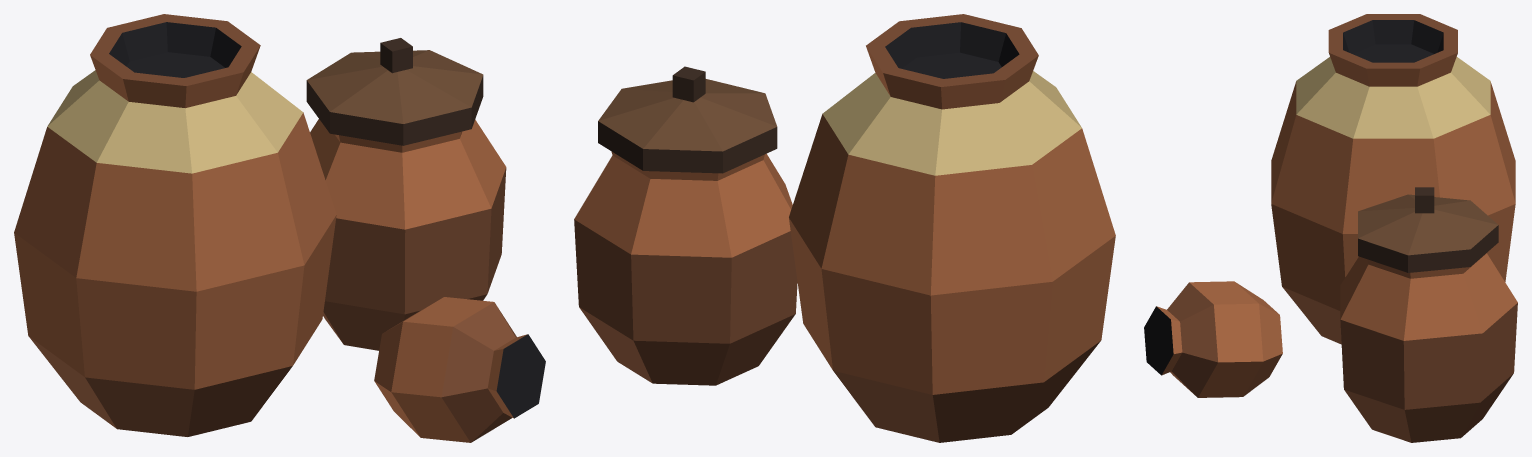
The model's file is pottery_jars.fbx.
The picture shows the model from 3 angles, left to right: view 1: azimuth 30°, elevation 25°; view 2: azimuth 150°, elevation 25°; view 3: azimuth 270°, elevation 25°; orthographic projection. The views are drawn at different scales.
Parts seen in each view (by area): view 1: pottery_jars; view 2: pottery_jars; view 3: pottery_jars.
Boxes of the visible parts, left/top/right/bottom form: pottery_jars: left=14, top=14, right=545, bottom=442; pottery_jars: left=574, top=14, right=1115, bottom=442; pottery_jars: left=1144, top=14, right=1517, bottom=442.
Size of the model in its own units: 1.13 by 0.8 by 0.9608.
